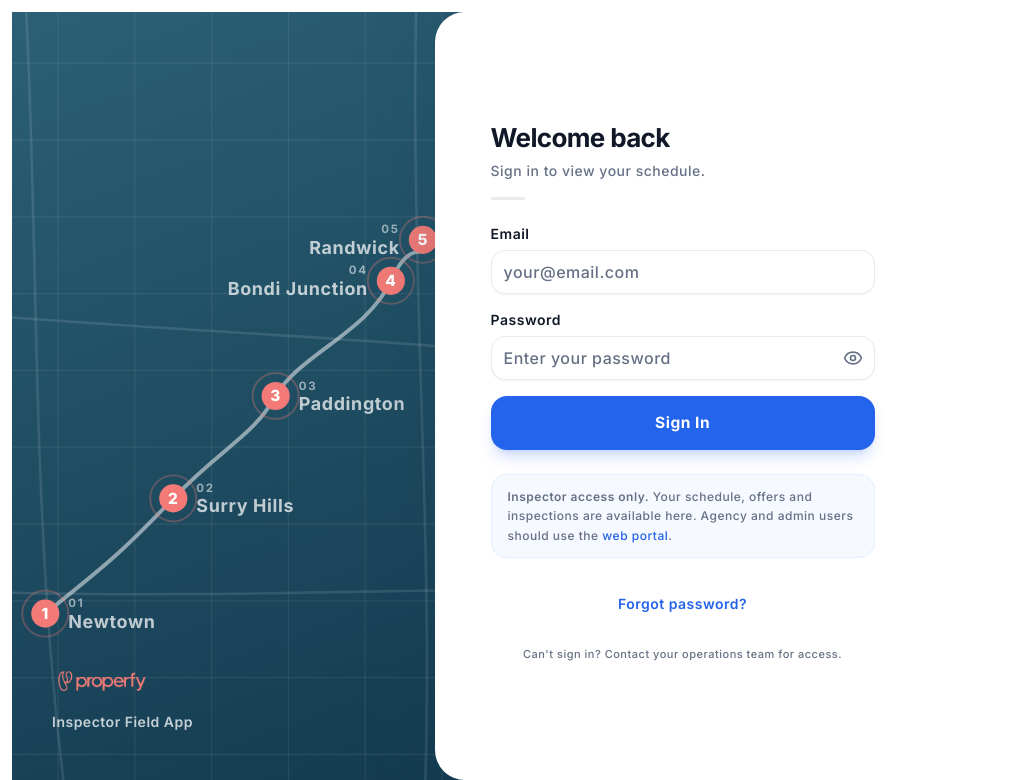
Test: LoginPage › shows locked account message when backend returns AUTH_ACCOUNT_LOCKED
The image size is (1036, 780).
Type "locked@test.com" into the field with test id "email-input" at (682, 272), box [490,250,874,294]
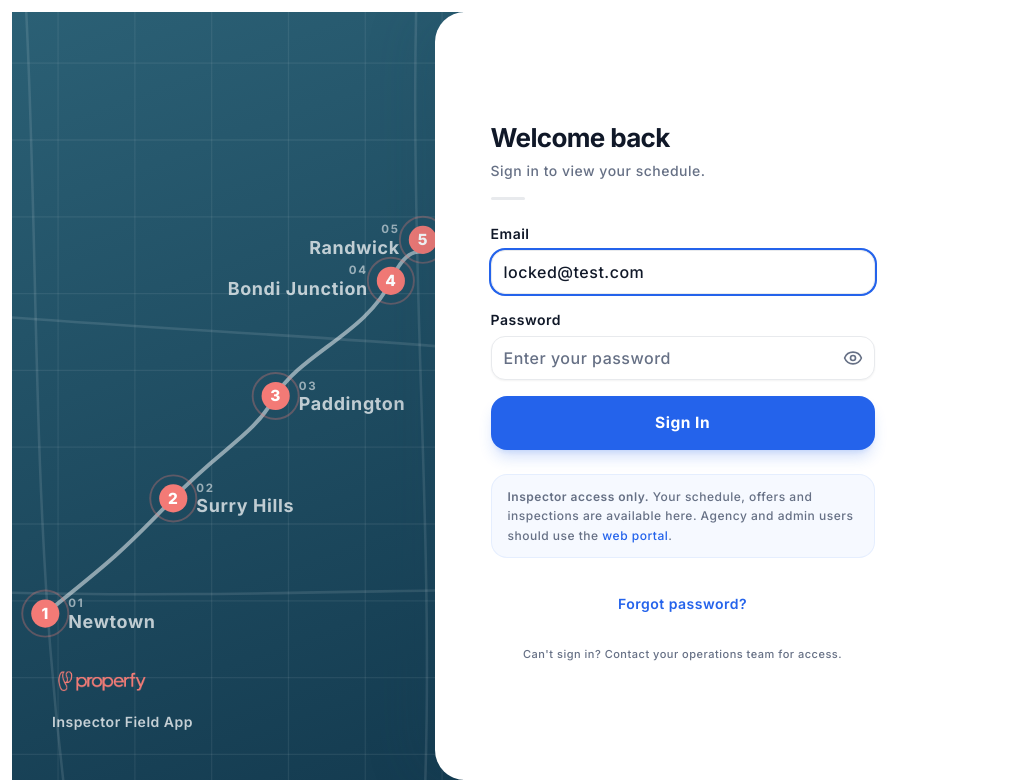
Type "wrong" into the password field with test id "password-input" at (682, 358), box [490,336,874,380]
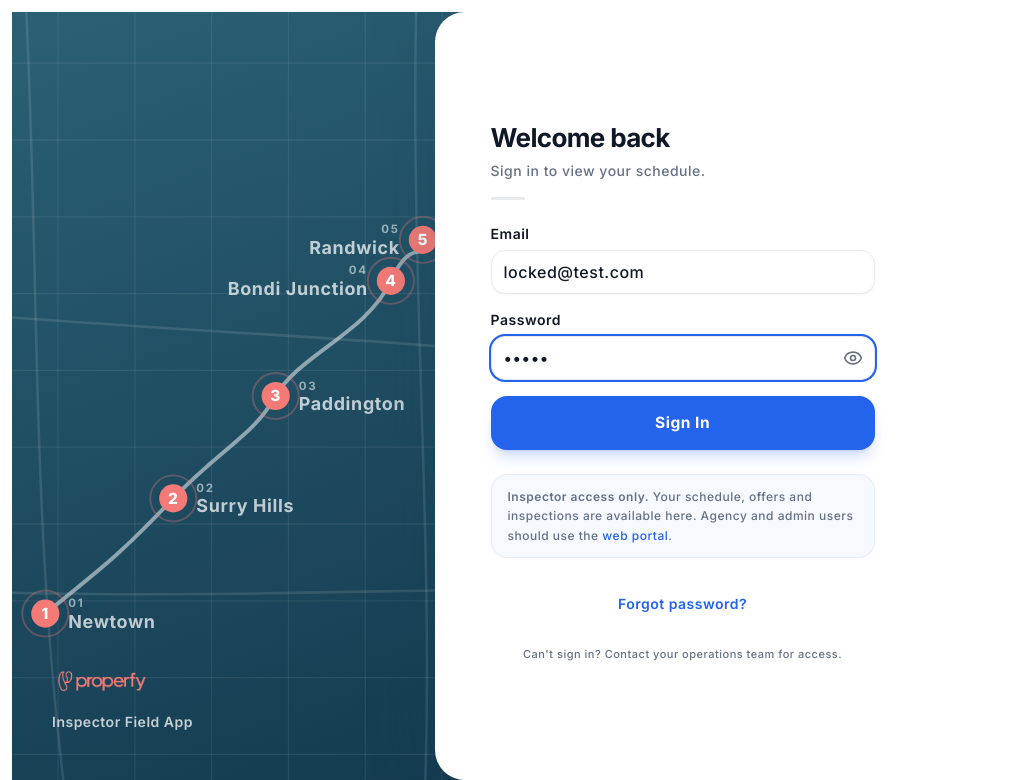
Click the button with test id "login-button" at (682, 422), box [490,396,874,450]
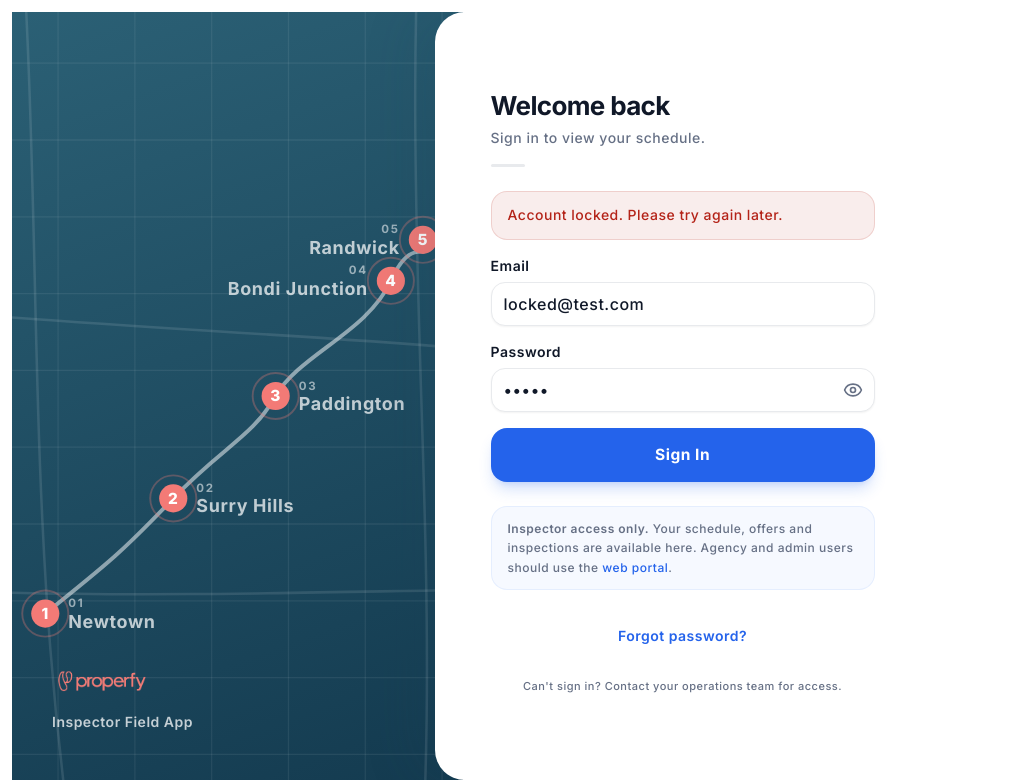
Now the text "Account locked. Please try again later." is shown, box [490,191,874,240]
